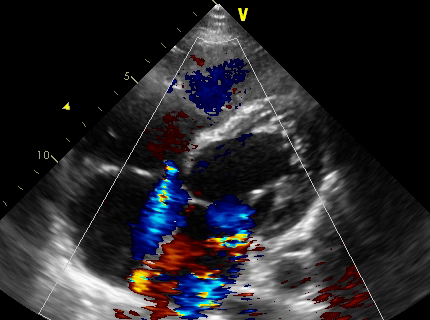TR: (103, 160, 180, 225)
